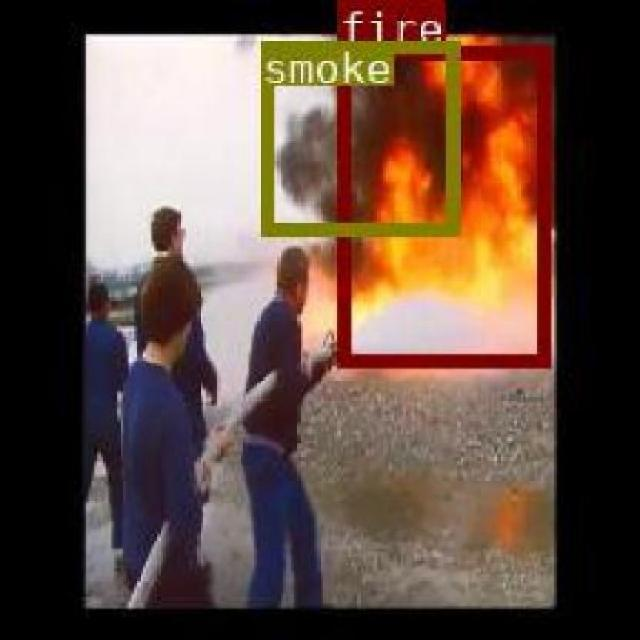Fire: (337, 42, 548, 364)
Smoke: (259, 38, 456, 234)
